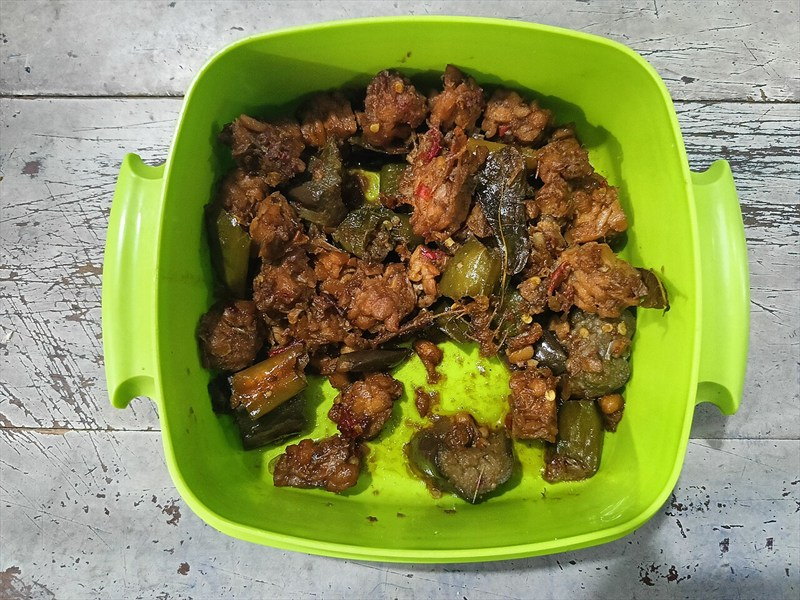Tempe Goreng: (162, 69, 663, 521)
